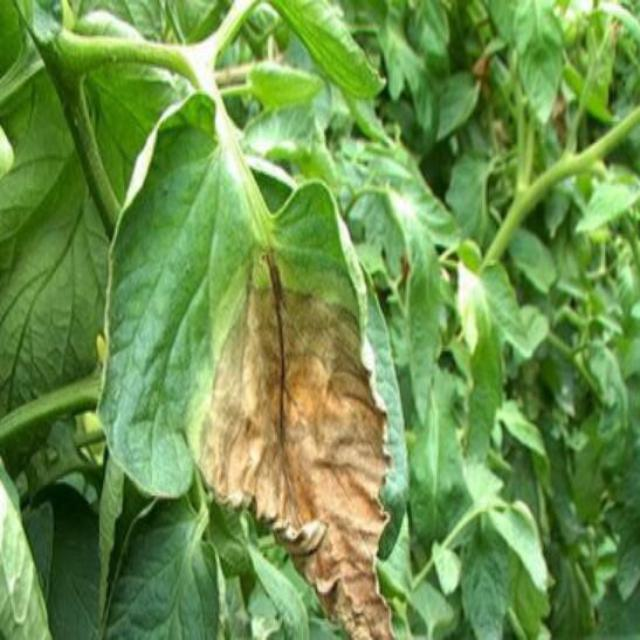Late_blight: (192, 239, 402, 640)
